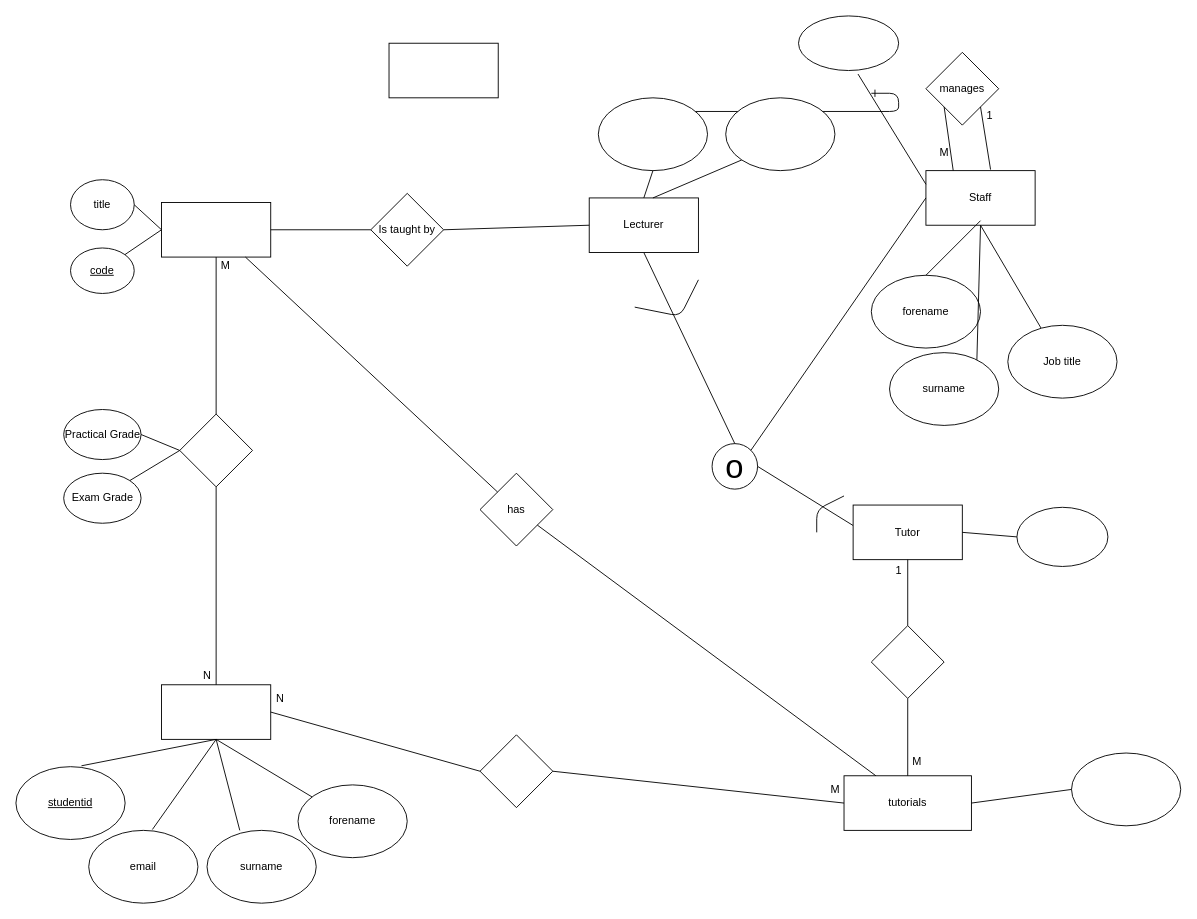
Some shapes in this 1197 by 919 pixel diagram are drawn without their labels. The centre of each missing label's shape, as x and y in pixels:
"Course" goes at pixel 216 229.
"end week" goes at pixel 780 134.
"is enrolled in" goes at pixel 216 450.
"room number" goes at pixel 1126 789.
"staff number" goes at pixel 848 43.
"start week" goes at pixel 652 134.
"status" goes at pixel 1062 536.
"Students" goes at pixel 216 711.
"takes" goes at pixel 516 771.
"teaches" goes at pixel 907 661.
